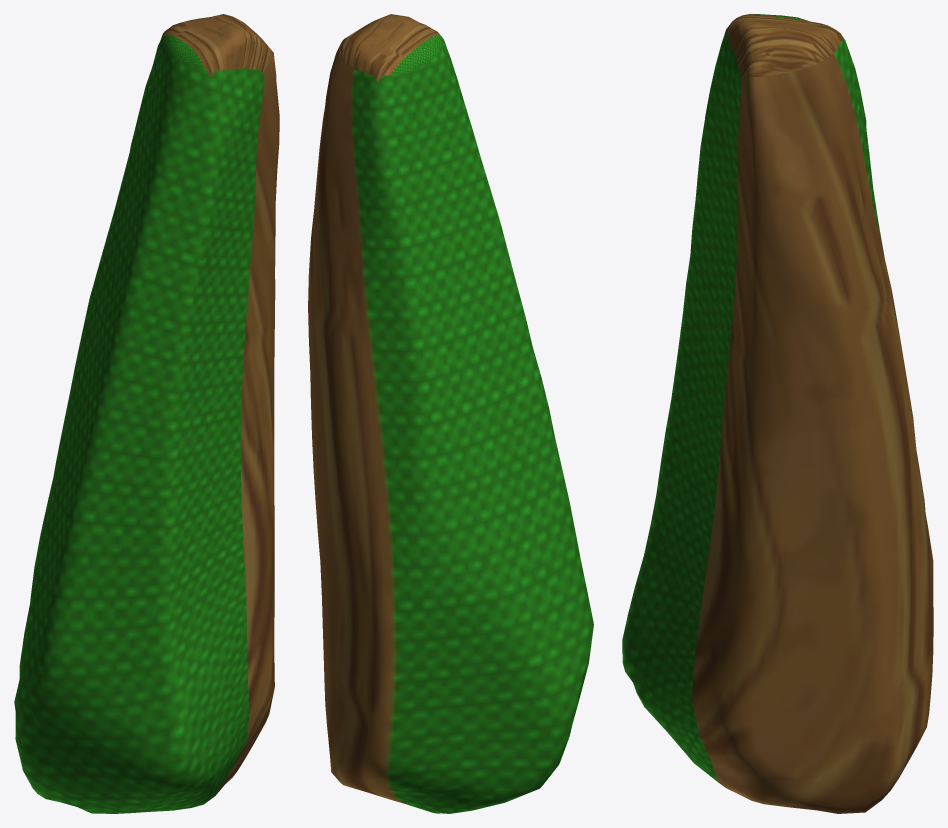
File: MOD_GlowingStalagite.fbx
3 views of the same model, side by side, from view 1: azimuth 30°, elevation 25°; view 2: azimuth 150°, elevation 25°; view 3: azimuth 270°, elevation 25° (orthographic). The views are drawn at different scales.
Visible parts, largest first — view 1: polySurface26; view 2: polySurface26; view 3: polySurface26.
Boxes of the visible parts, x1=… form: polySurface26: x1=14, y1=14, x2=279, y2=813; polySurface26: x1=308, y1=14, x2=593, y2=813; polySurface26: x1=622, y1=14, x2=933, y2=813.
Size of the model in its own units: 3.98 by 11.59 by 4.03.
